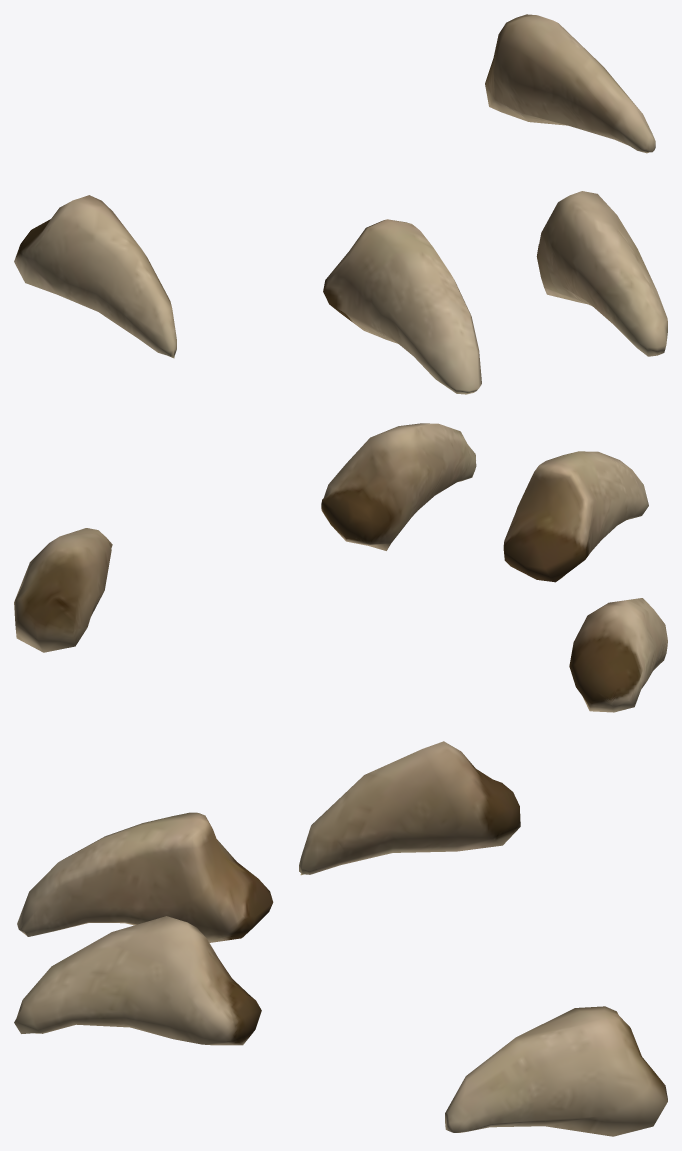
File: Distal_Phalanges.glb
3 views of the same model, one above another, from view 1: azimuth 30°, elevation 25°; view 2: azimuth 150°, elevation 25°; view 3: azimuth 270°, elevation 25° (orthographic). The views are drawn at different scales.
Parts seen in each view (by area): view 1: polySurface51, polySurface52, polySurface49, polySurface50; view 2: polySurface51, polySurface50, polySurface49, polySurface52; view 3: polySurface51, polySurface50, polySurface49, polySurface52.
Boxes of the visible parts, left/top/right/bottom form: polySurface51: left=323, top=219, right=481, bottom=394; polySurface52: left=14, top=195, right=176, bottom=358; polySurface49: left=485, top=14, right=655, bottom=153; polySurface50: left=536, top=191, right=667, bottom=356; polySurface51: left=503, top=451, right=648, bottom=582; polySurface50: left=321, top=423, right=476, bottom=550; polySurface49: left=14, top=528, right=112, bottom=652; polySurface52: left=569, top=598, right=667, bottom=712; polySurface51: left=17, top=812, right=273, bottom=942; polySurface50: left=14, top=916, right=261, bottom=1045; polySurface49: left=445, top=1006, right=667, bottom=1136; polySurface52: left=299, top=741, right=520, bottom=875.
Size of the model in its own units: 37.47 by 7.75 by 33.17.
Materials: 1 (1 with a texture image).
